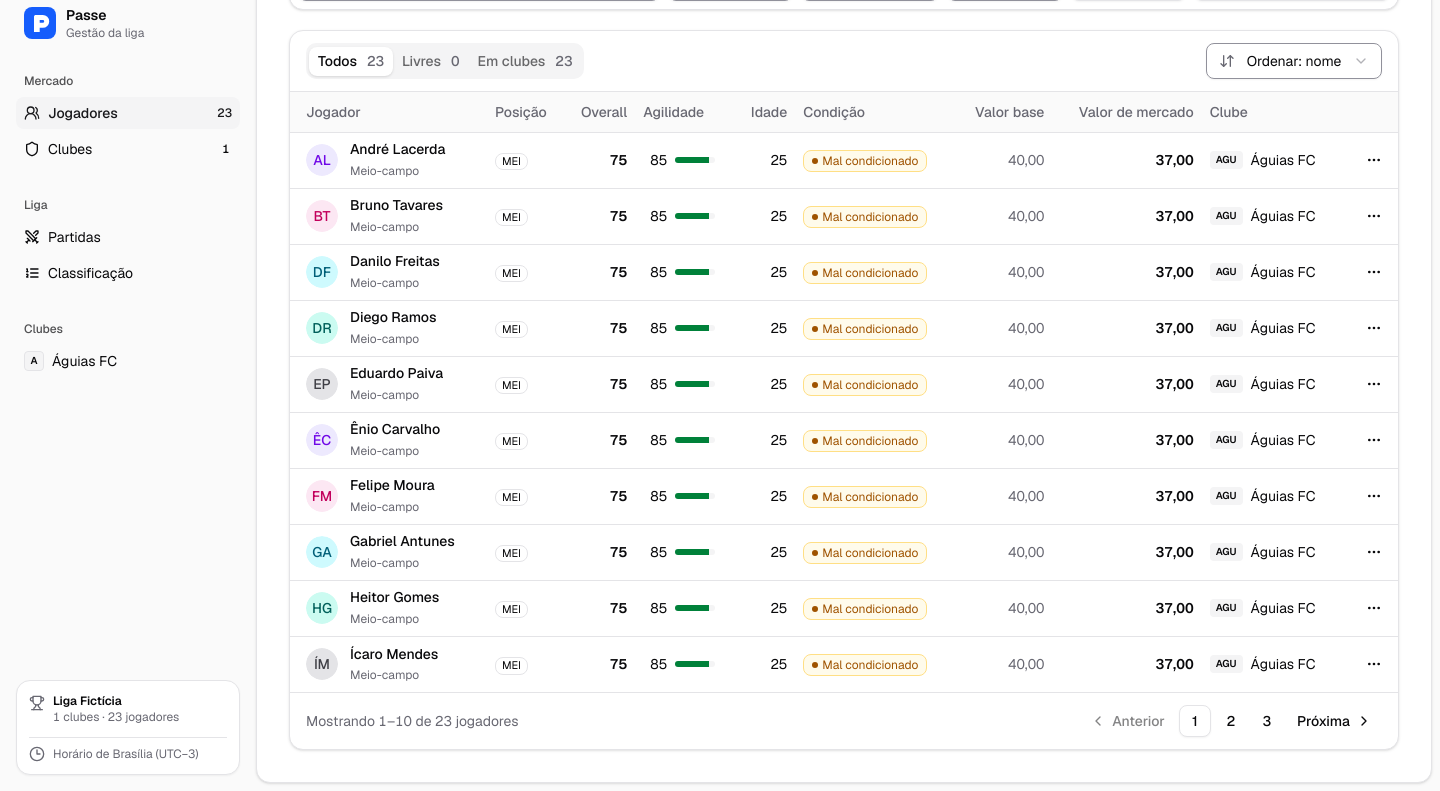
F01 player list screen › navigates through 10-item pages using the API meta, including the short last page
(page scrolled)
Expected: the text "Mostrando 1–10 de 23 jogadores" is shown, 306,711 -> 518,731
Expected: the text "André Lacerda" is shown, 350,141 -> 445,159
Click the button "Próxima" at (1334, 721), box 1287,705 -> 1382,737
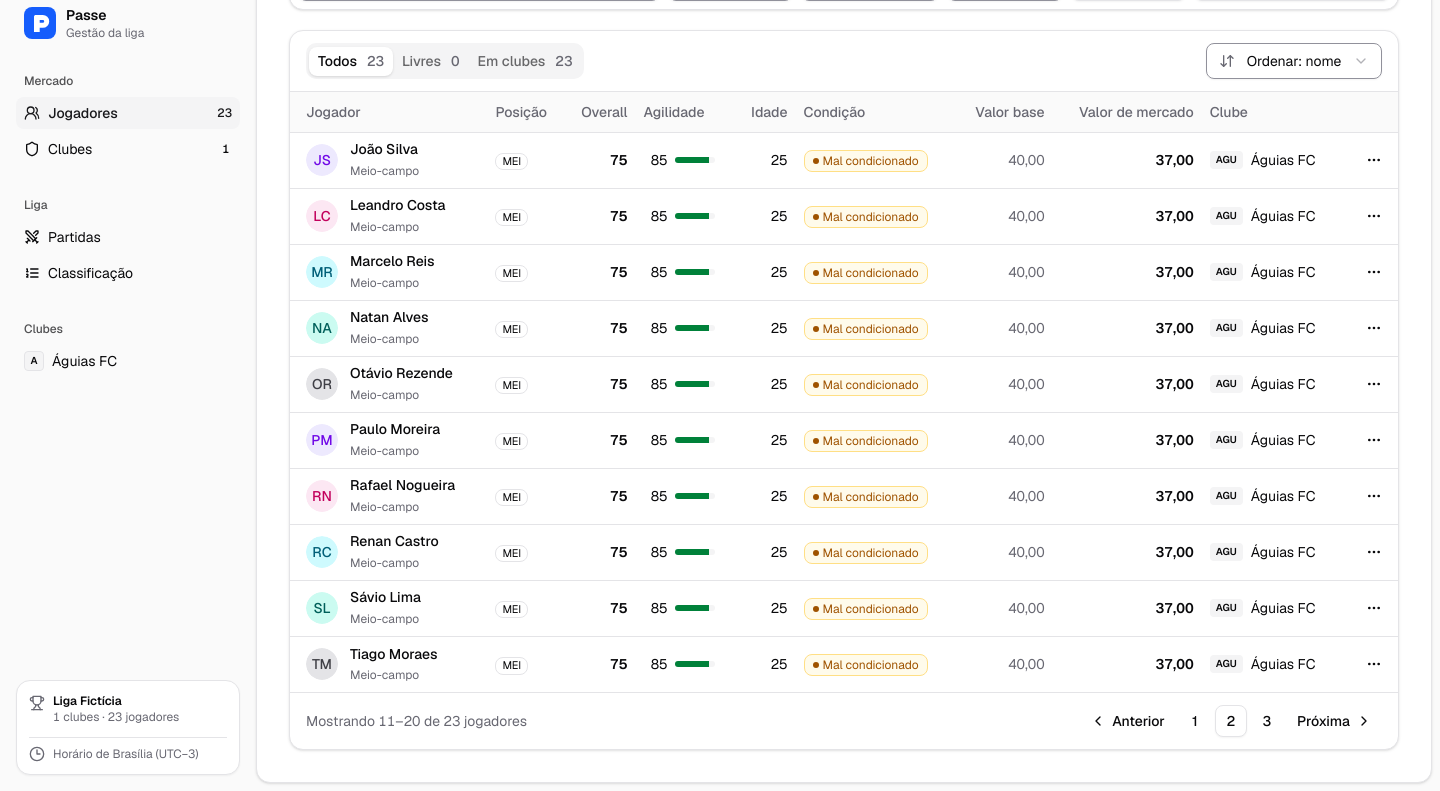
Expected: the text "Mostrando 11–20 de 23 jogadores" is shown, 306,711 -> 527,731
Expected: the text "João Silva" is shown, 350,141 -> 419,159
Expected: the text "Leandro Costa" is shown, 350,197 -> 446,215
Click the button named "Página 3" at (1267, 721), box 1251,705 -> 1283,737
(page scrolled)
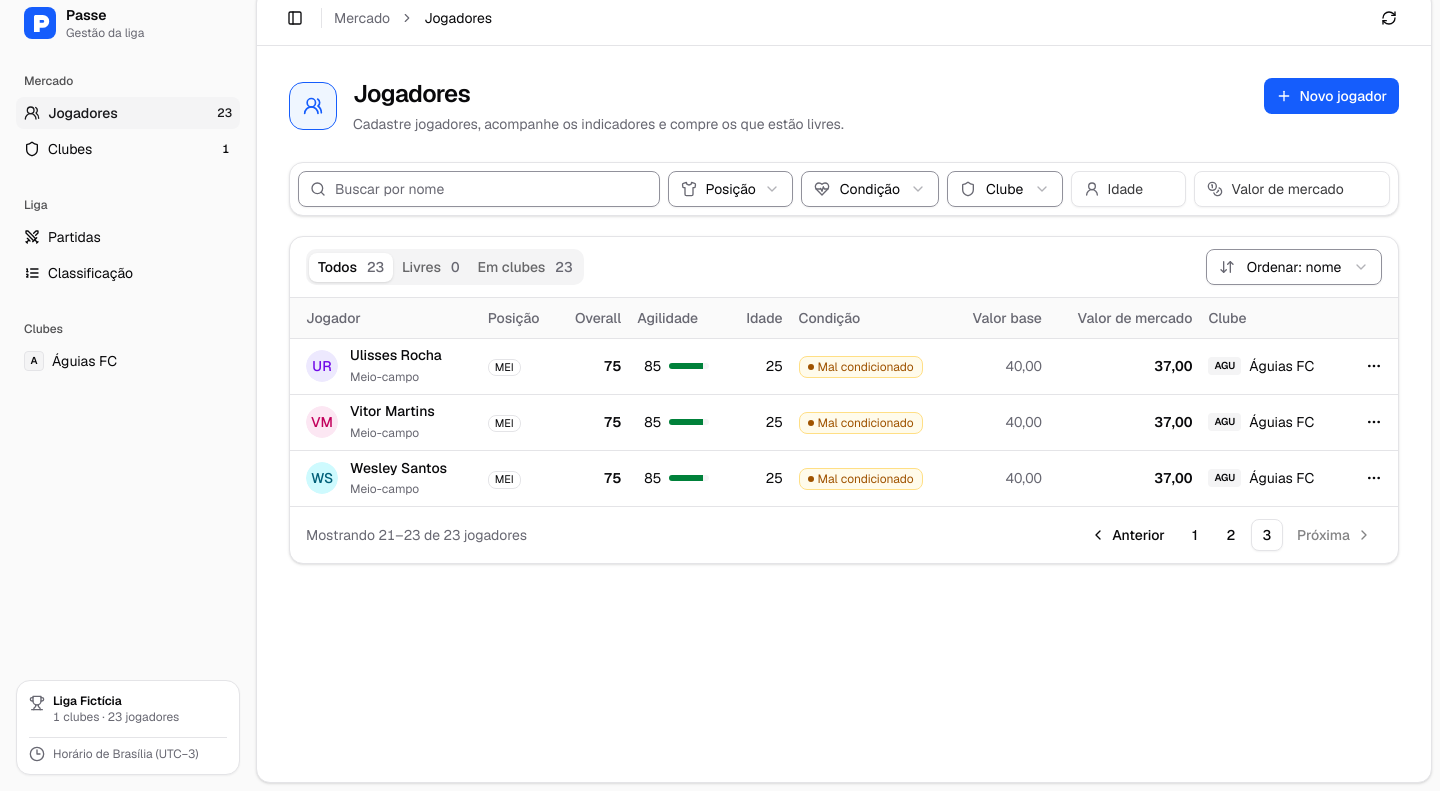
Expected: the text "Mostrando 21–23 de 23 jogadores" is shown, 306,525 -> 527,545
Expected: the text "Ulisses Rocha" is shown, 350,347 -> 442,365
Expected: the text "Vitor Martins" is shown, 350,403 -> 435,421
Click the button "Anterior" at (1127, 535), box 1080,519 -> 1175,551
(page scrolled)
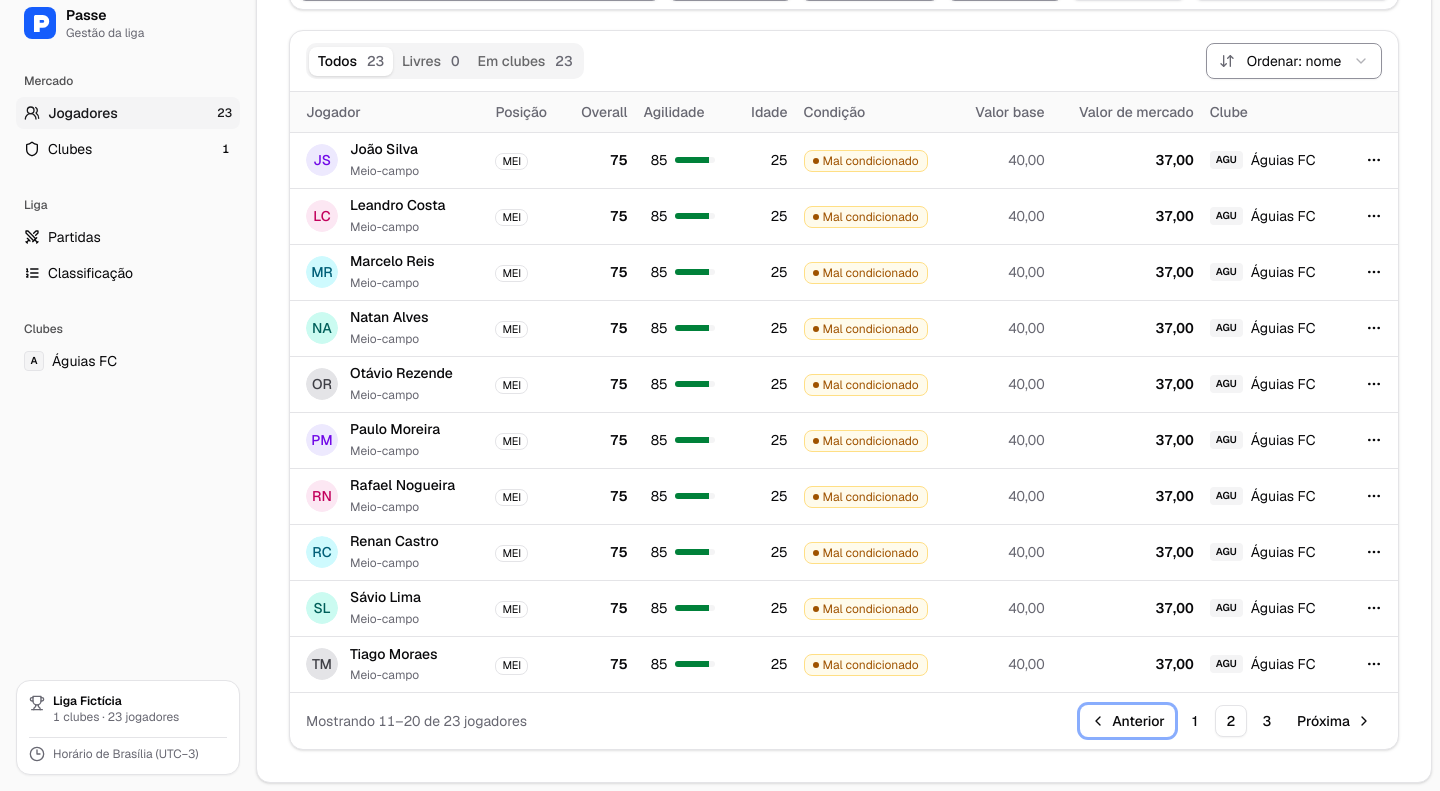
Expected: the text "Mostrando 11–20 de 23 jogadores" is shown, 306,711 -> 527,731
Expected: the text "João Silva" is shown, 350,141 -> 419,159
Expected: the text "Leandro Costa" is shown, 350,197 -> 446,215
Click the button "Anterior" at (1127, 721), box 1080,705 -> 1175,737
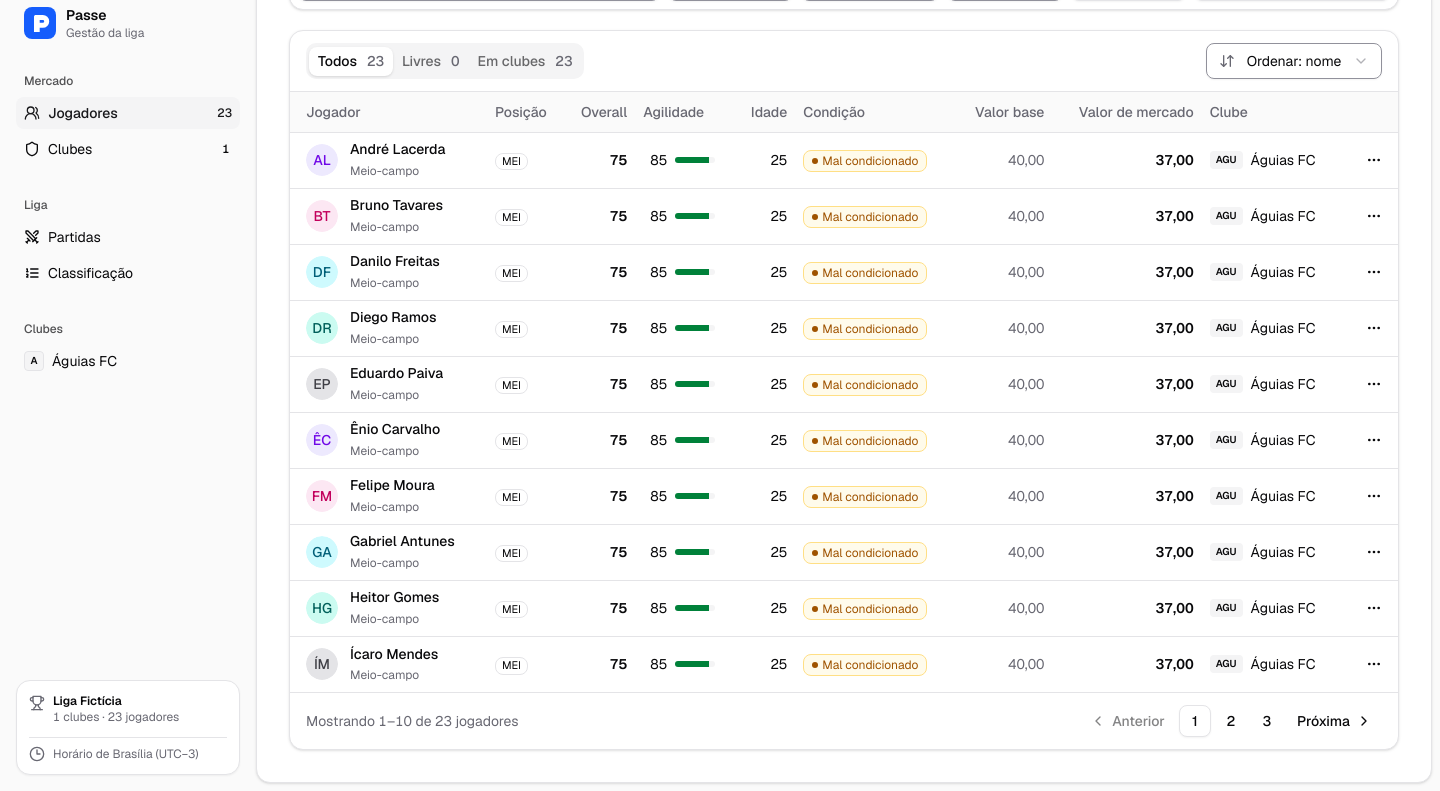
Expected: the text "Mostrando 1–10 de 23 jogadores" is shown, 306,711 -> 518,731
Expected: the text "André Lacerda" is shown, 350,141 -> 445,159
Expected: the text "Bruno Tavares" is shown, 350,197 -> 443,215
